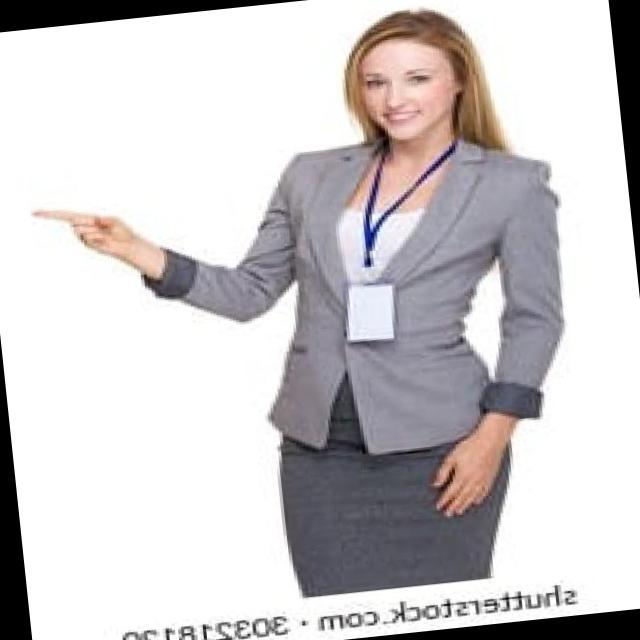id_card: (326, 134, 466, 344)
